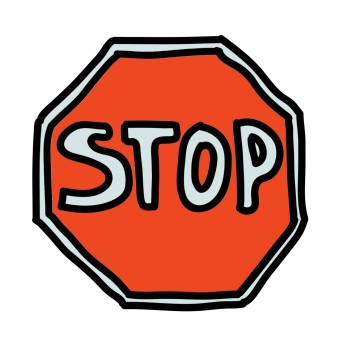SS: (35, 37, 307, 312)
